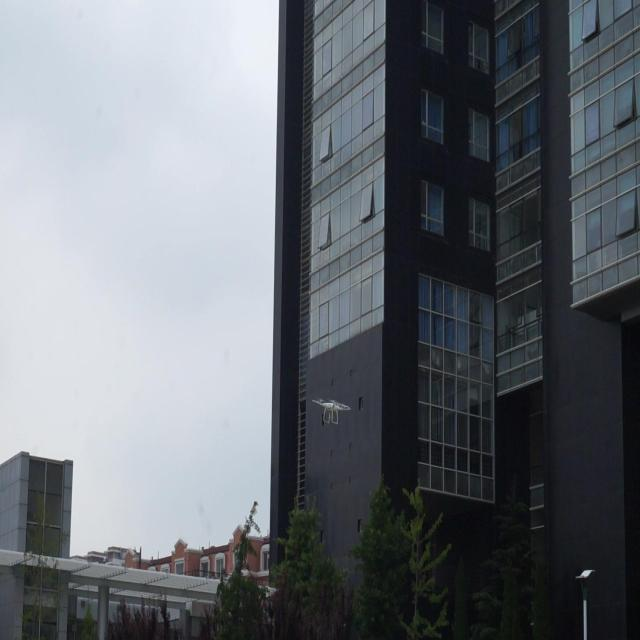drone: (309, 397, 353, 426)
